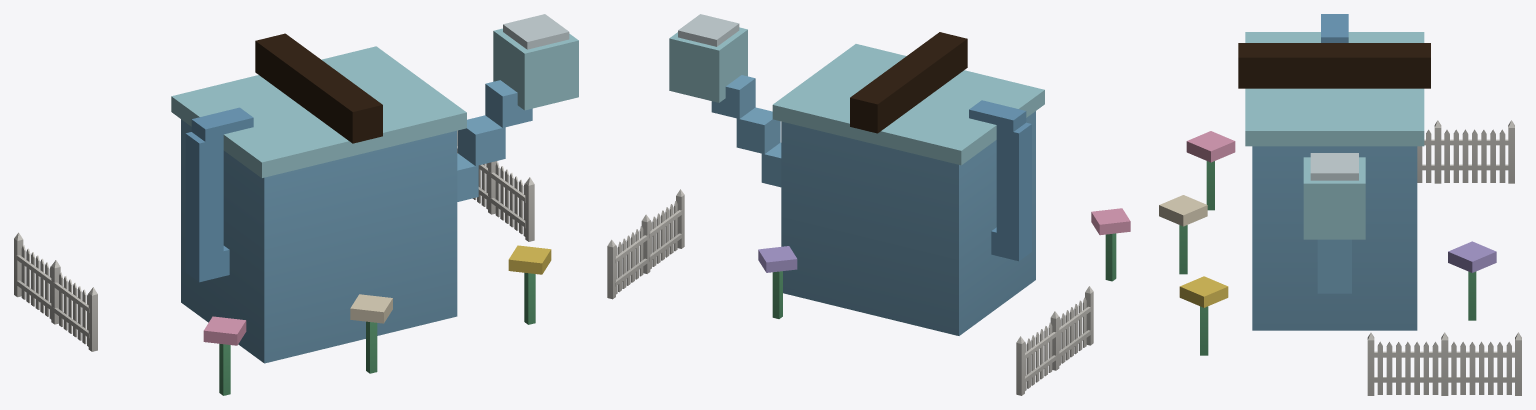
File: giant-watering-can.glb
The picture shows the model from 3 angles, left to right: view 1: azimuth 30°, elevation 25°; view 2: azimuth 150°, elevation 25°; view 3: azimuth 270°, elevation 25°; orthographic projection. The views are drawn at different scales.
Visible parts, largest first — view 1: giant-watering-can_body; view 2: giant-watering-can_body; view 3: giant-watering-can_body.
Part boxes in pixels (box(x1,y1,x2,y2)): giant-watering-can_body: box(14, 14, 578, 395); giant-watering-can_body: box(607, 14, 1130, 395); giant-watering-can_body: box(1159, 14, 1521, 395).
Bounding box in the file's own units: 7.6 × 3.75 × 5.27.
